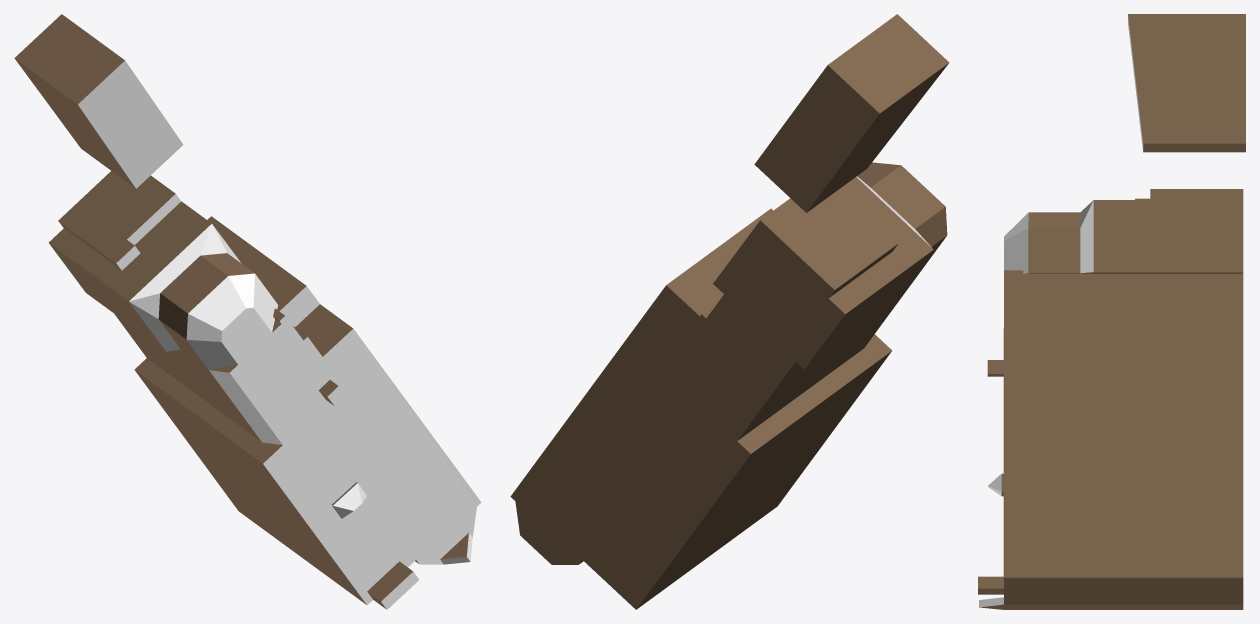
The picture shows the model from 3 angles, left to right: view 1: azimuth 30°, elevation 25°; view 2: azimuth 150°, elevation 25°; view 3: azimuth 270°, elevation 25°; orthographic projection. The views are drawn at different scales.
Parts seen in each view (by area): view 1: City_1202529; view 2: City_1202529; view 3: City_1202529.
Part boxes in pixels (x1,y1,x2,y2): City_1202529: (14,14,481,609); City_1202529: (510,14,949,609); City_1202529: (978,14,1245,609).
Size of the model in its own units: 1912 by 2922 by 1413.
